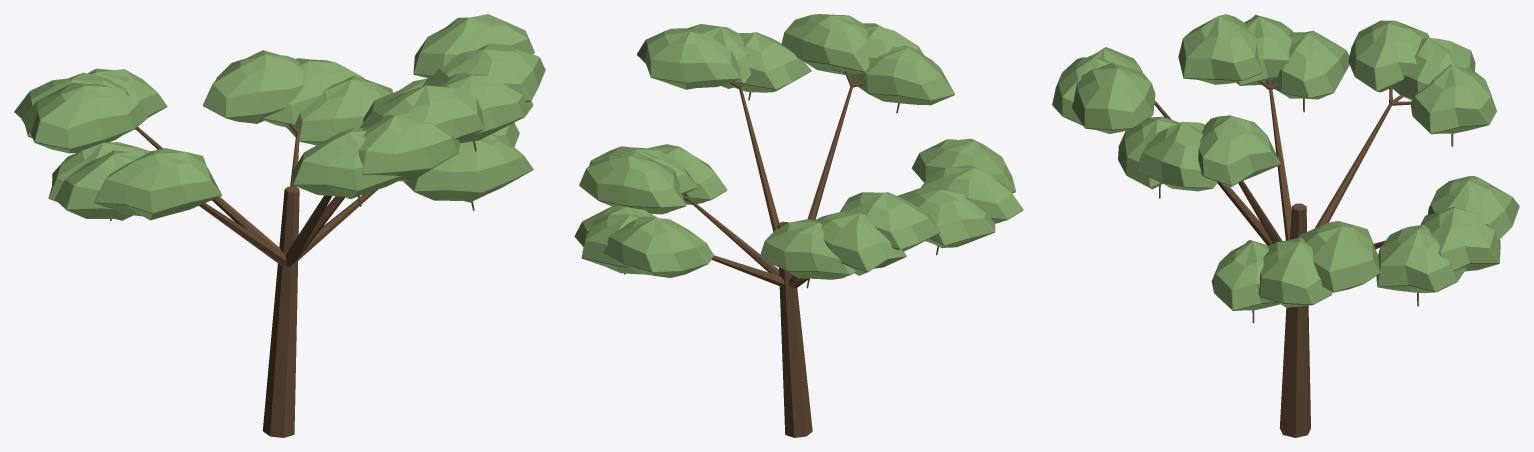
The model's file is b08_honeylocust.glb.
3 renders of one model, left to right at view 1: azimuth 30°, elevation 25°; view 2: azimuth 150°, elevation 25°; view 3: azimuth 270°, elevation 25°, orthographic. The views are drawn at different scales.
Visible parts, largest first — view 1: b08_honeylocust; view 2: b08_honeylocust; view 3: b08_honeylocust.
Part boxes in pixels (bbox=[...]): b08_honeylocust: bbox=[14, 14, 545, 437]; b08_honeylocust: bbox=[574, 14, 1023, 437]; b08_honeylocust: bbox=[1052, 14, 1519, 437].
Bounding box in the file's own units: 5.61 × 4.55 × 4.95.
